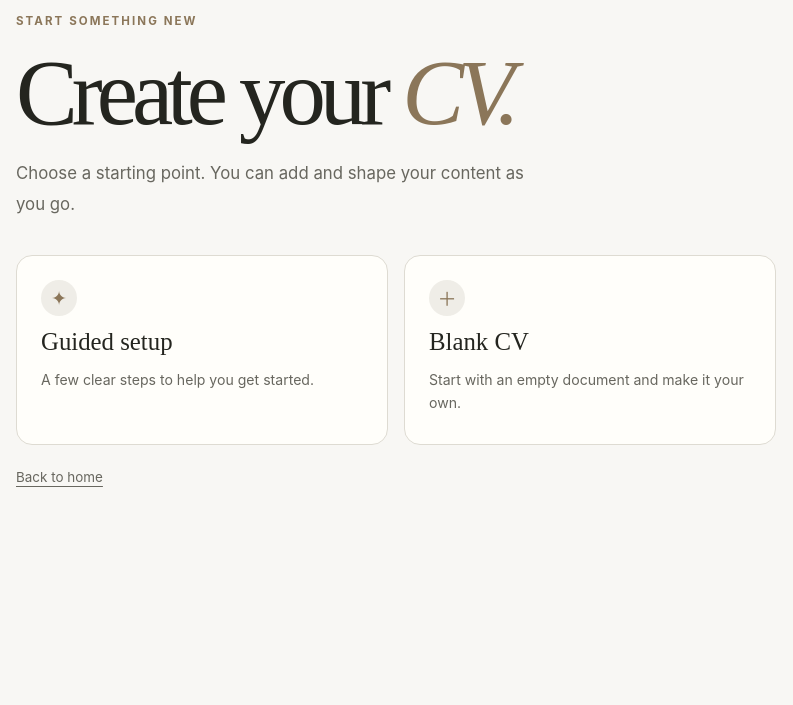
Scenario: NewCVPage › guides the user through a checklist before creating the same empty model
Later steps or results of the test are not shown.
Click the button "✦ Guided setup A few clear steps to help you get started.": (59, 298) [16,255,388,445]
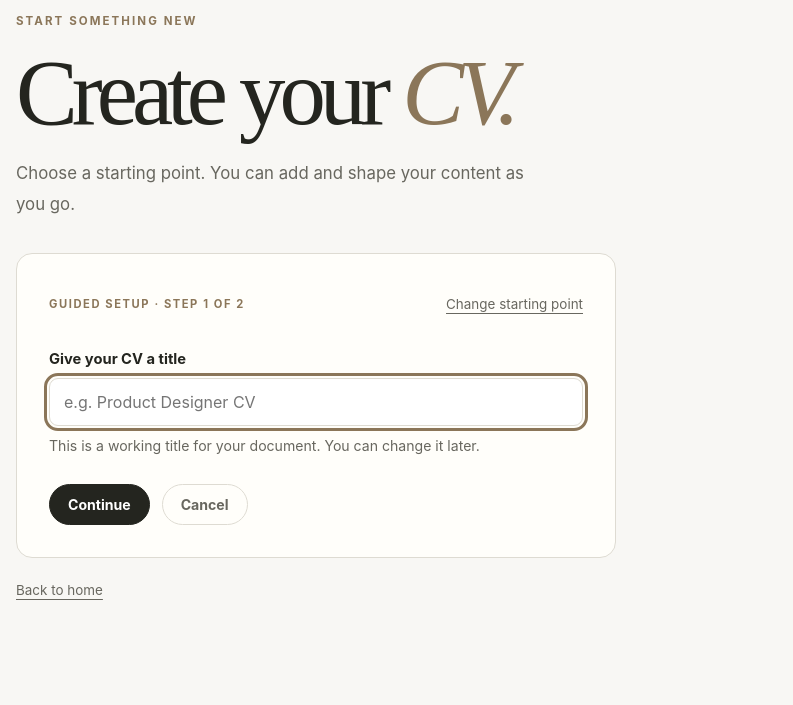
In the field labelled "Give your CV a title": (316, 402) [49,378,583,426], type "Guided CV"
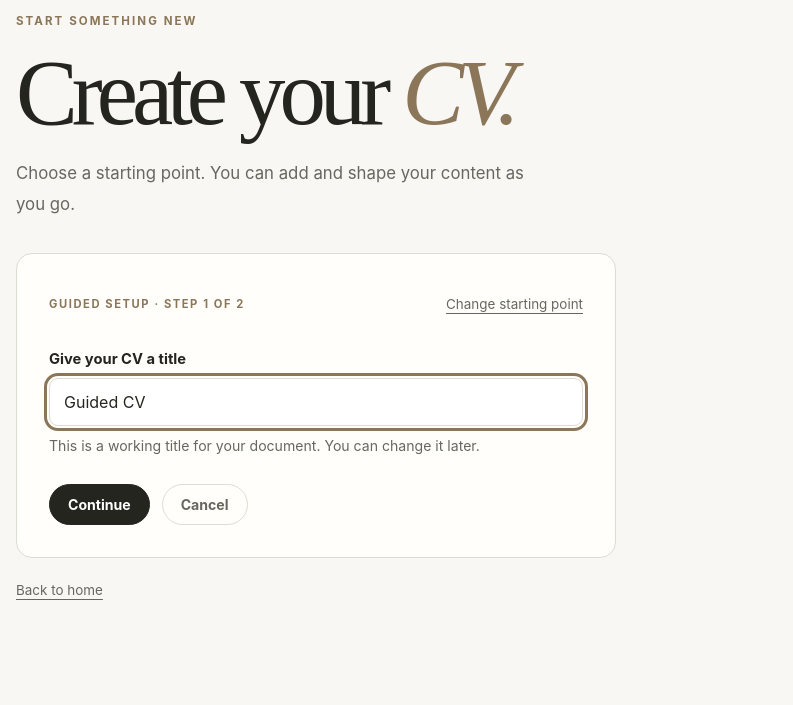
Click the button "Continue": (99, 504) [49,484,150,524]
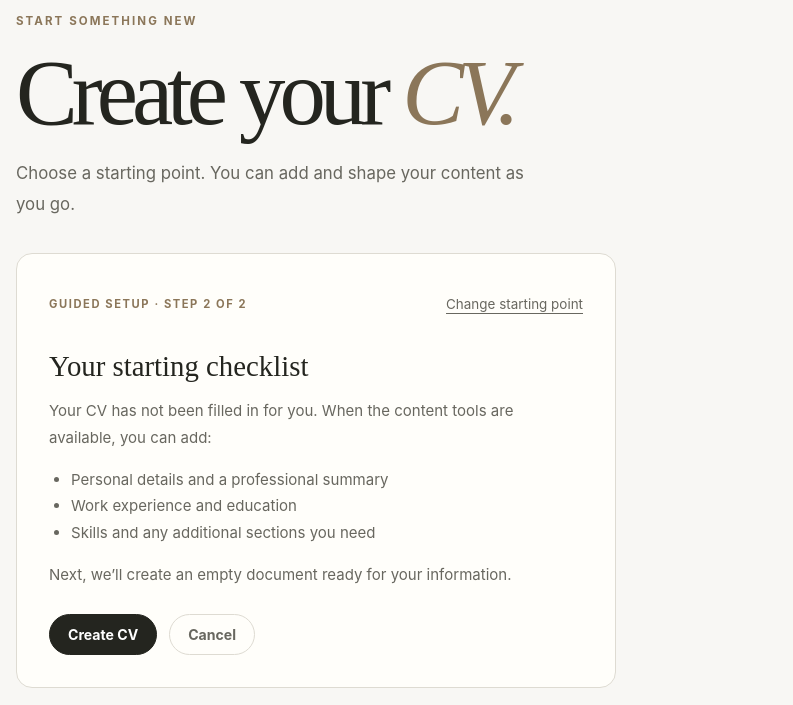
Expected: the heading "Your starting checklist" is shown, [49,350,308,382]
